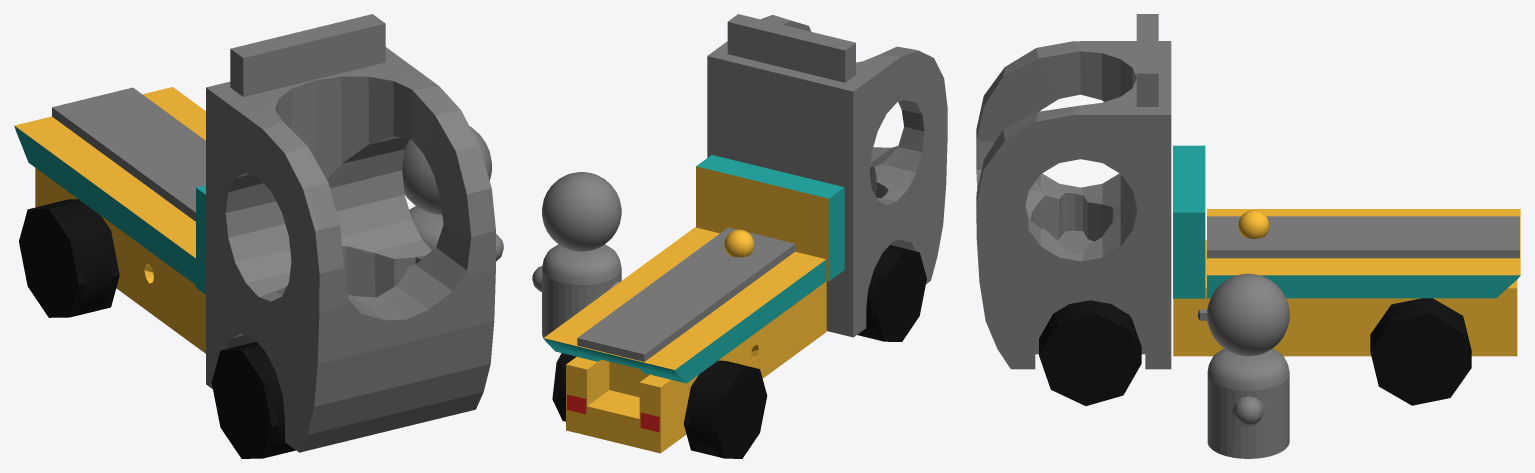
Rendered from uploads_files_423470_R3D_truck_wood_free_model.FBX.
The picture shows the model from 3 angles, left to right: view 1: azimuth 30°, elevation 25°; view 2: azimuth 150°, elevation 25°; view 3: azimuth 270°, elevation 25°; orthographic projection. The views are drawn at different scales.
Parts seen in each view (by area): view 1: Cylinder030, Plane004, Box013, Cylinder039, Box015, Cylinder038, Box014, R3D_man_wood, Box011; view 2: Cylinder030, Box014, Plane004, Box011, Box013, R3D_man_wood, Cylinder039, Box015, Cylinder038, Cylinder037, Sphere037; view 3: Cylinder030, R3D_man_wood, Plane004, Box013, Box014, Cylinder037, Cylinder036, Box011, Box015, Sphere037.
Boxes of the visible parts, x1=… form: Cylinder030: x1=206, y1=47, x2=495, y2=452; Plane004: x1=14, y1=87, x2=205, y2=284; Box013: x1=52, y1=87, x2=205, y2=221; Cylinder039: x1=19, y1=199, x2=119, y2=317; Box015: x1=230, y1=14, x2=385, y2=96; Cylinder038: x1=211, y1=342, x2=295, y2=458; Box014: x1=35, y1=168, x2=205, y2=353; R3D_man_wood: x1=402, y1=126, x2=503, y2=261; Box011: x1=196, y1=185, x2=205, y2=294; Cylinder030: x1=707, y1=15, x2=947, y2=337; Box014: x1=566, y1=281, x2=826, y2=453; Plane004: x1=543, y1=227, x2=826, y2=383; Box011: x1=696, y1=155, x2=844, y2=281; Box013: x1=577, y1=227, x2=795, y2=361; R3D_man_wood: x1=532, y1=172, x2=621, y2=338; Cylinder039: x1=683, y1=360, x2=767, y2=458; Box015: x1=727, y1=14, x2=855, y2=82; Cylinder038: x1=857, y1=245, x2=926, y2=341; Cylinder037: x1=552, y1=353, x2=576, y2=421; Sphere037: x1=724, y1=229, x2=754, y2=257; Cylinder030: x1=976, y1=41, x2=1171, y2=369; R3D_man_wood: x1=1198, y1=273, x2=1289, y2=458; Plane004: x1=1207, y1=209, x2=1520, y2=298; Box013: x1=1207, y1=216, x2=1519, y2=258; Box014: x1=1173, y1=240, x2=1517, y2=356; Cylinder037: x1=1370, y1=298, x2=1471, y2=405; Cylinder036: x1=1039, y1=300, x2=1141, y2=405; Box011: x1=1173, y1=145, x2=1205, y2=298; Box015: x1=1136, y1=14, x2=1158, y2=106; Sphere037: x1=1238, y1=210, x2=1269, y2=238.
Size of the model in its own units: 7.91 by 8.03 by 12.34.
